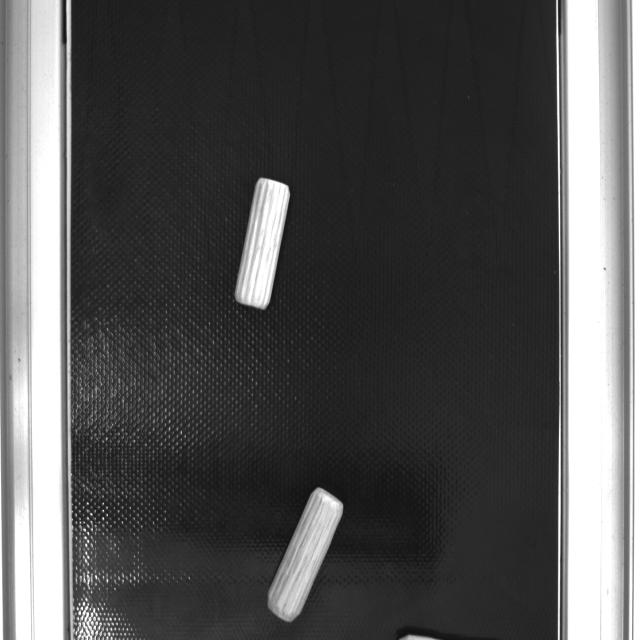Chot go: (263, 484, 348, 629), (232, 176, 292, 312)
